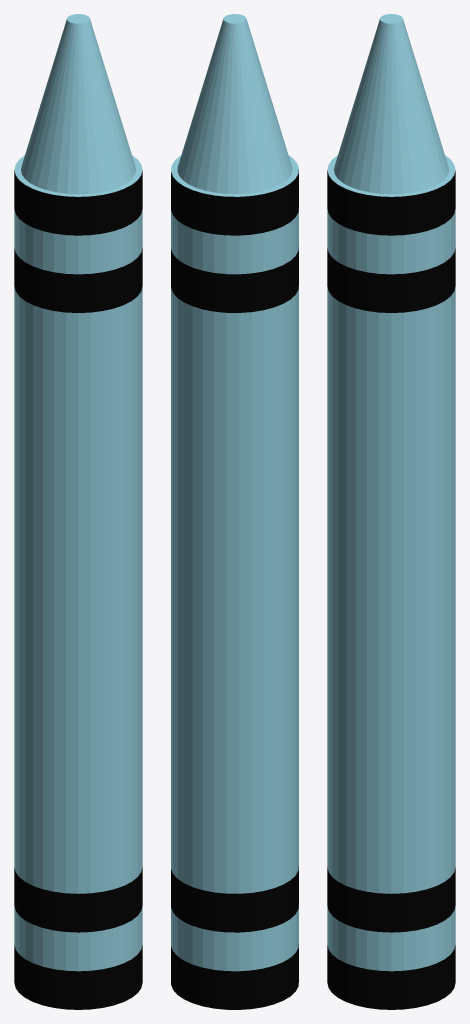
File: CrayonVar3.fbx
The picture shows the model from 3 angles, left to right: view 1: azimuth 90°, elevation 25°; view 2: azimuth 150°, elevation 25°; view 3: azimuth 270°, elevation 25°; orthographic projection.
Visible parts, largest first — view 1: CrayonBL; view 2: CrayonBL; view 3: CrayonBL.
Boxes of the visible parts, bbox=[...] form: CrayonBL: bbox=[14, 14, 142, 1009]; CrayonBL: bbox=[171, 14, 298, 1009]; CrayonBL: bbox=[327, 14, 455, 1009].
Bounding box in the file's own units: 200 × 200 × 1660.
